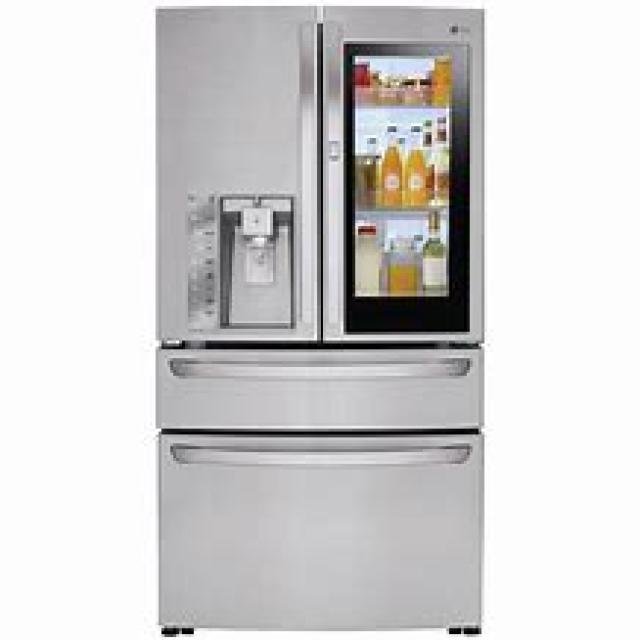fridge: (153, 3, 484, 637)
